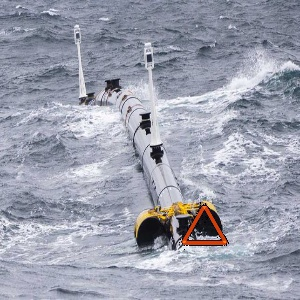triangle: (179, 201, 230, 249)
